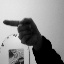g: (2, 17, 42, 47)
